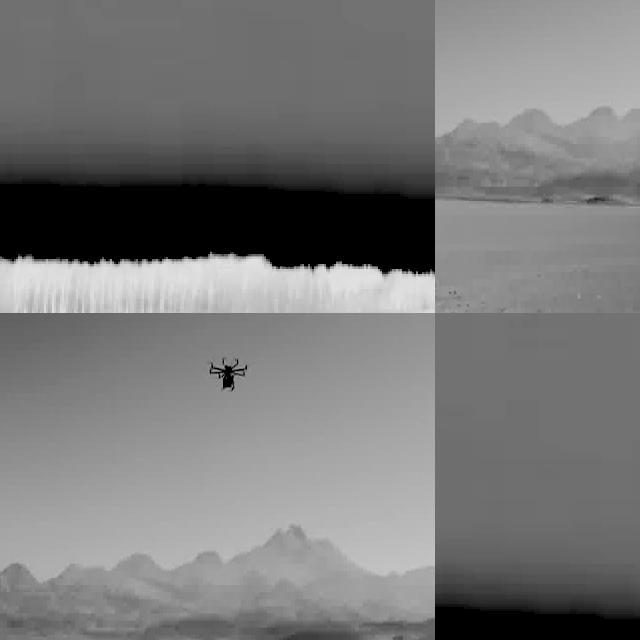drone: (204, 346, 250, 398)
